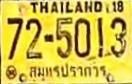0: (74, 17, 90, 57)
1: (97, 17, 103, 57)
2: (24, 18, 42, 58)
3: (110, 17, 126, 57)
5: (56, 16, 72, 58)
7: (6, 17, 22, 59)
SPK: (26, 61, 107, 82)
